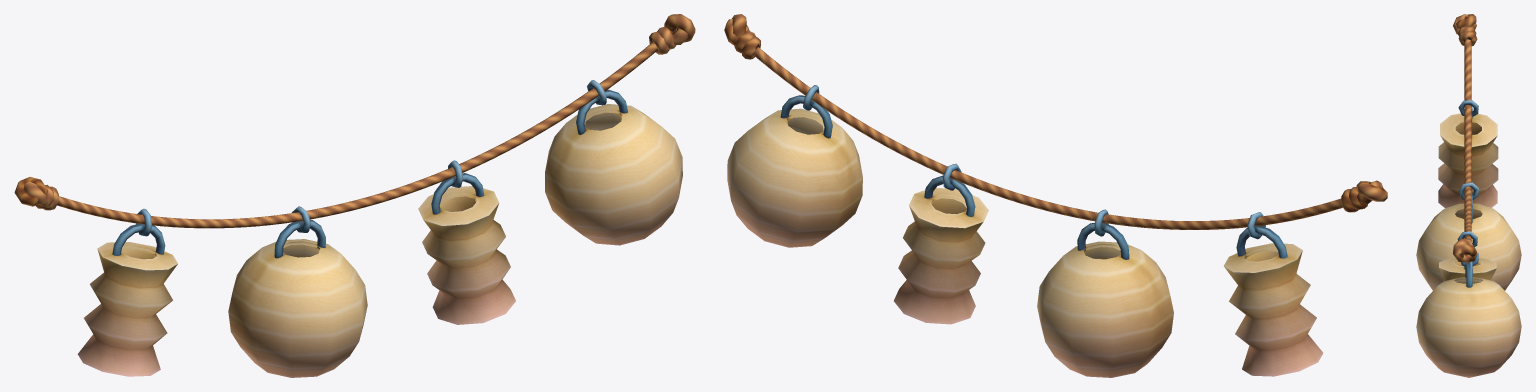
Rendered from SE_Lampions_01b.fbx.
The picture shows the model from 3 angles, left to right: view 1: azimuth 30°, elevation 25°; view 2: azimuth 150°, elevation 25°; view 3: azimuth 270°, elevation 25°; orthographic projection. The views are drawn at different scales.
Visible parts, largest first — view 1: SE_Lampions_01b; view 2: SE_Lampions_01b; view 3: SE_Lampions_01b.
Part boxes in pixels (left/top/right/bottom): SE_Lampions_01b: left=14, top=14, right=695, bottom=377; SE_Lampions_01b: left=724, top=14, right=1387, bottom=377; SE_Lampions_01b: left=1416, top=14, right=1521, bottom=377.
Size of the model in its own units: 12.09 by 4.64 by 2.23.
